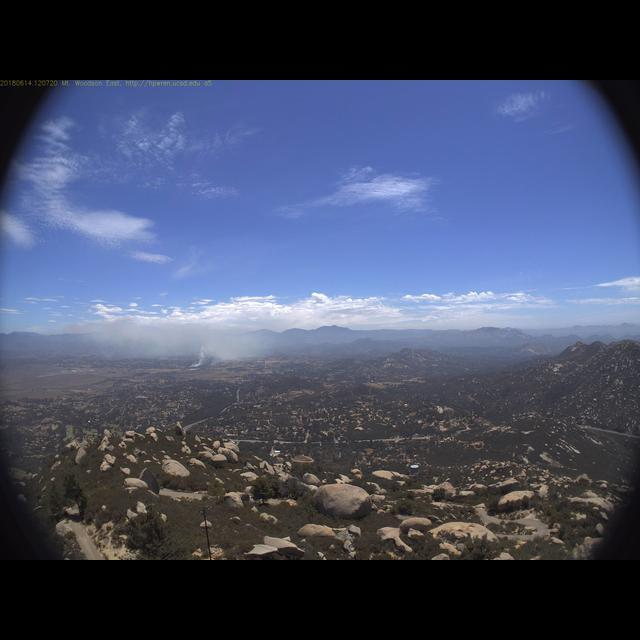Smoke: (80, 314, 277, 369)
